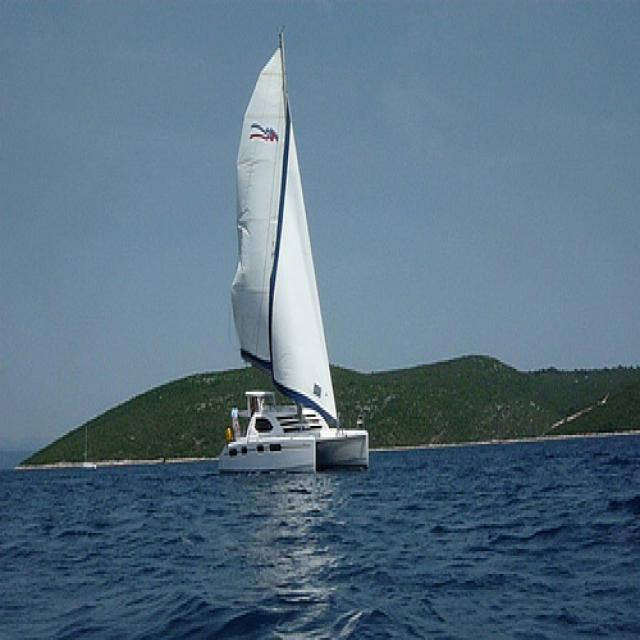Ship: (213, 24, 372, 471)
